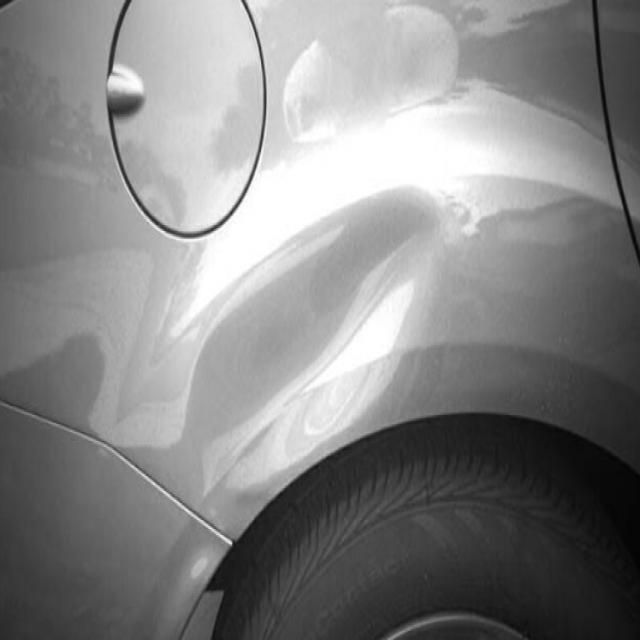dents: (164, 186, 436, 524)
